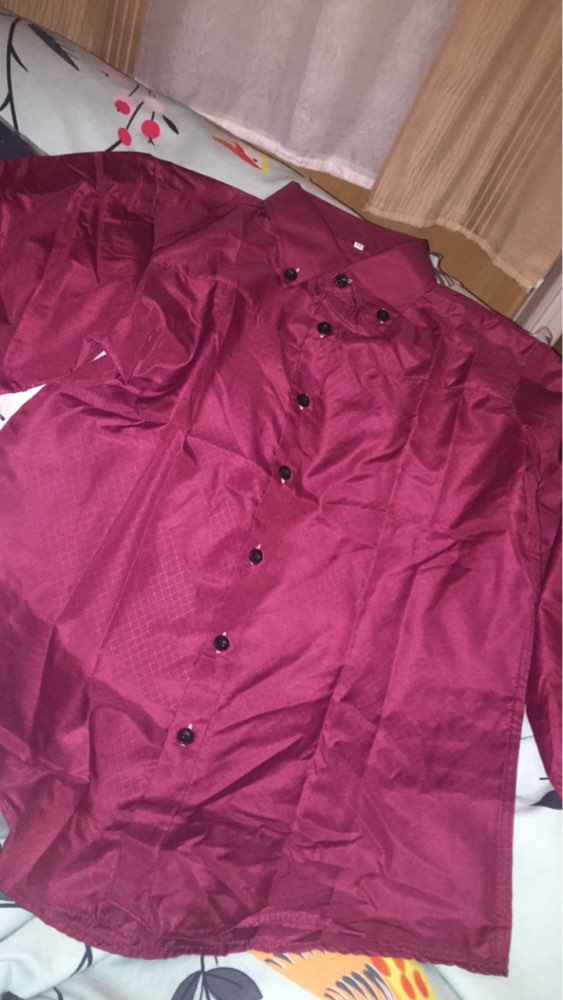shirts: (5, 125, 563, 980)
